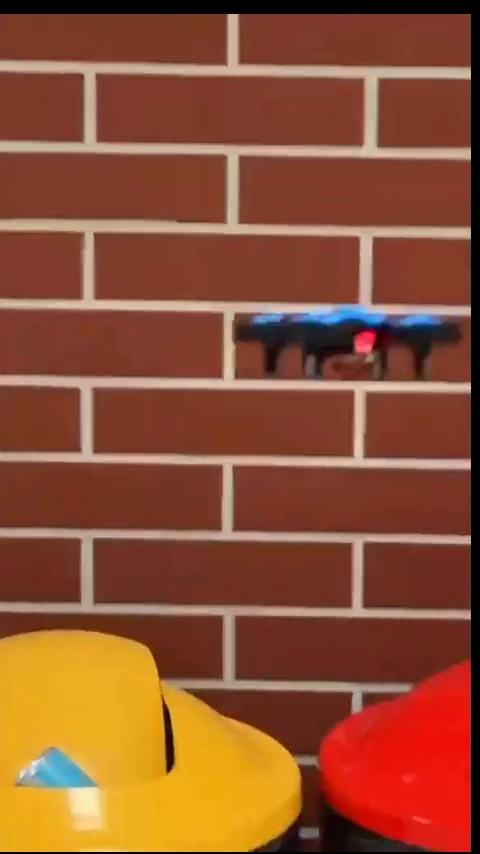drone: (233, 307, 462, 380)
